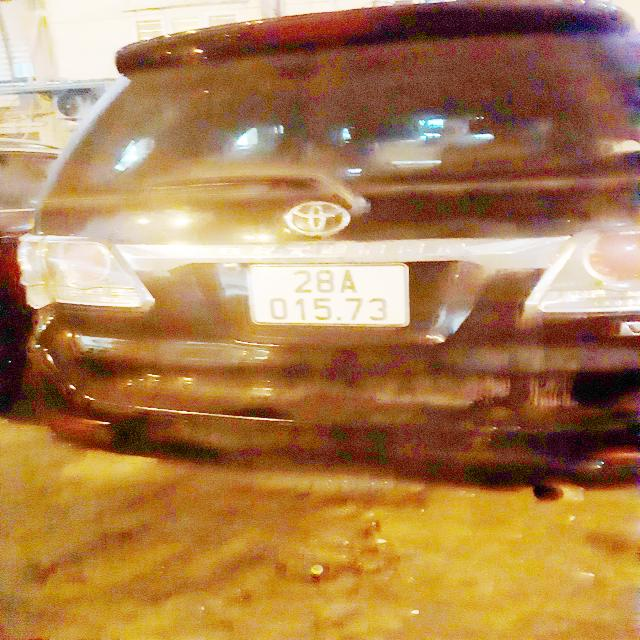license_plate: (240, 262, 417, 331)
